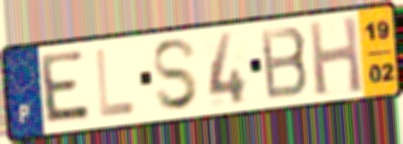4: (205, 30, 252, 108)
B: (257, 24, 311, 103)
E: (40, 48, 94, 126)
H: (306, 13, 366, 99)
L: (93, 47, 138, 121)
S: (150, 36, 201, 114)
